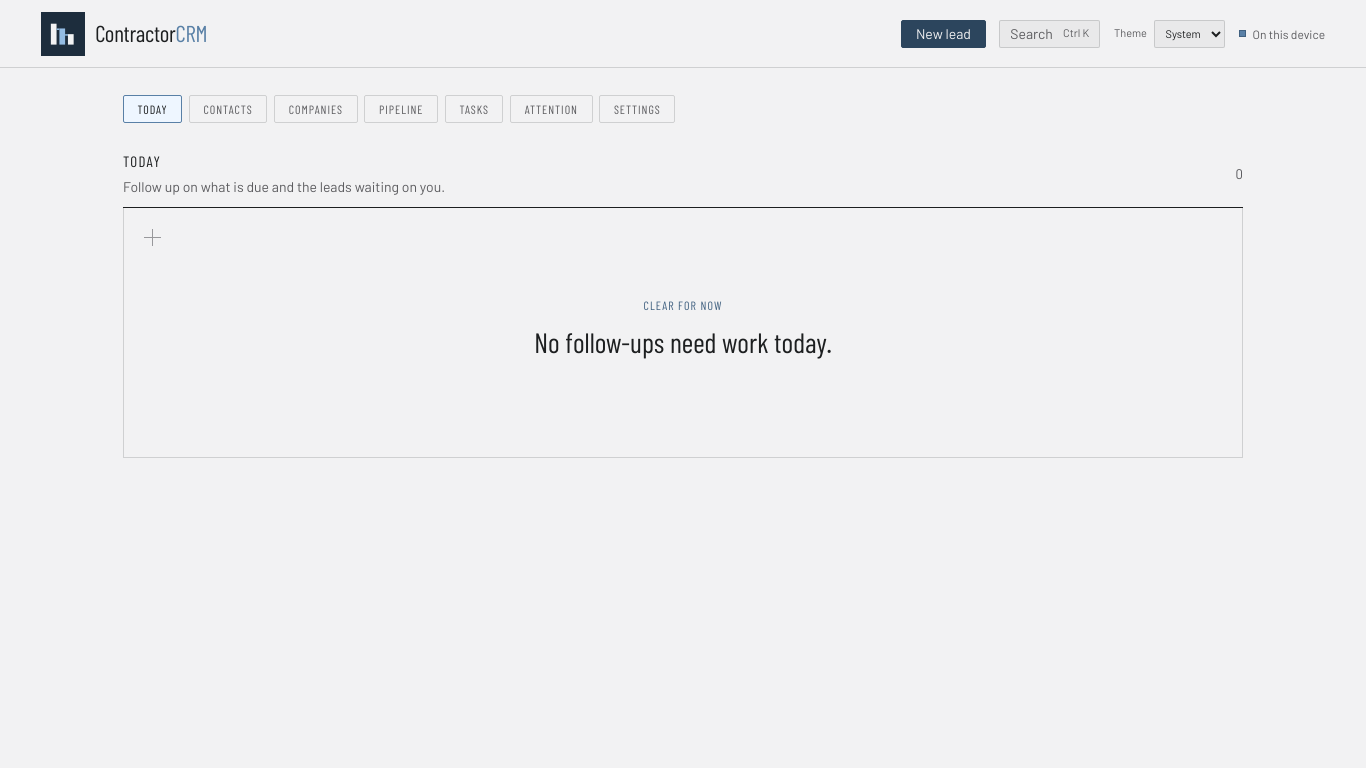
Scenario: activity timeline › renders entries newest-first with kind, direction, and summary
Click the button "Contacts" at (228, 109), box [189,95,267,123]
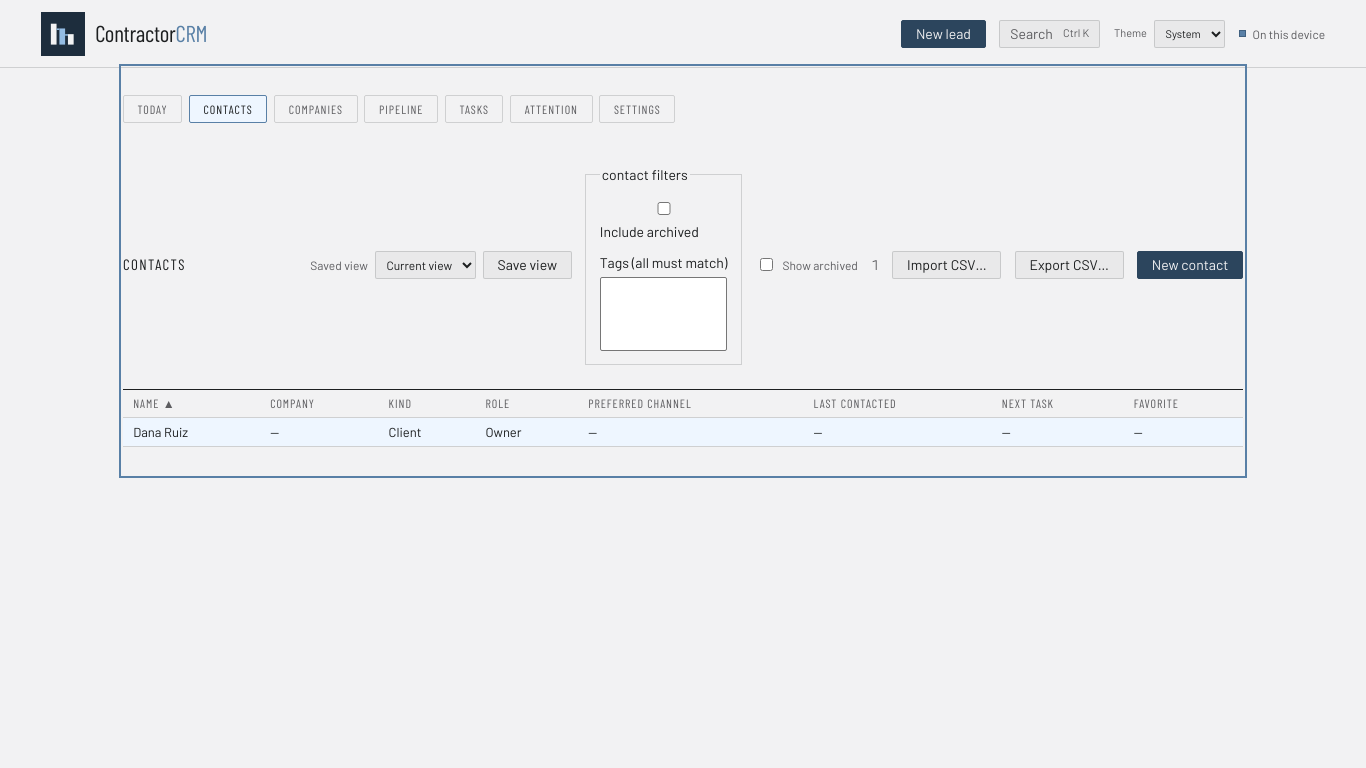
Click the text "Dana Ruiz" at (161, 432), box [133,424,188,440]
(page scrolled)
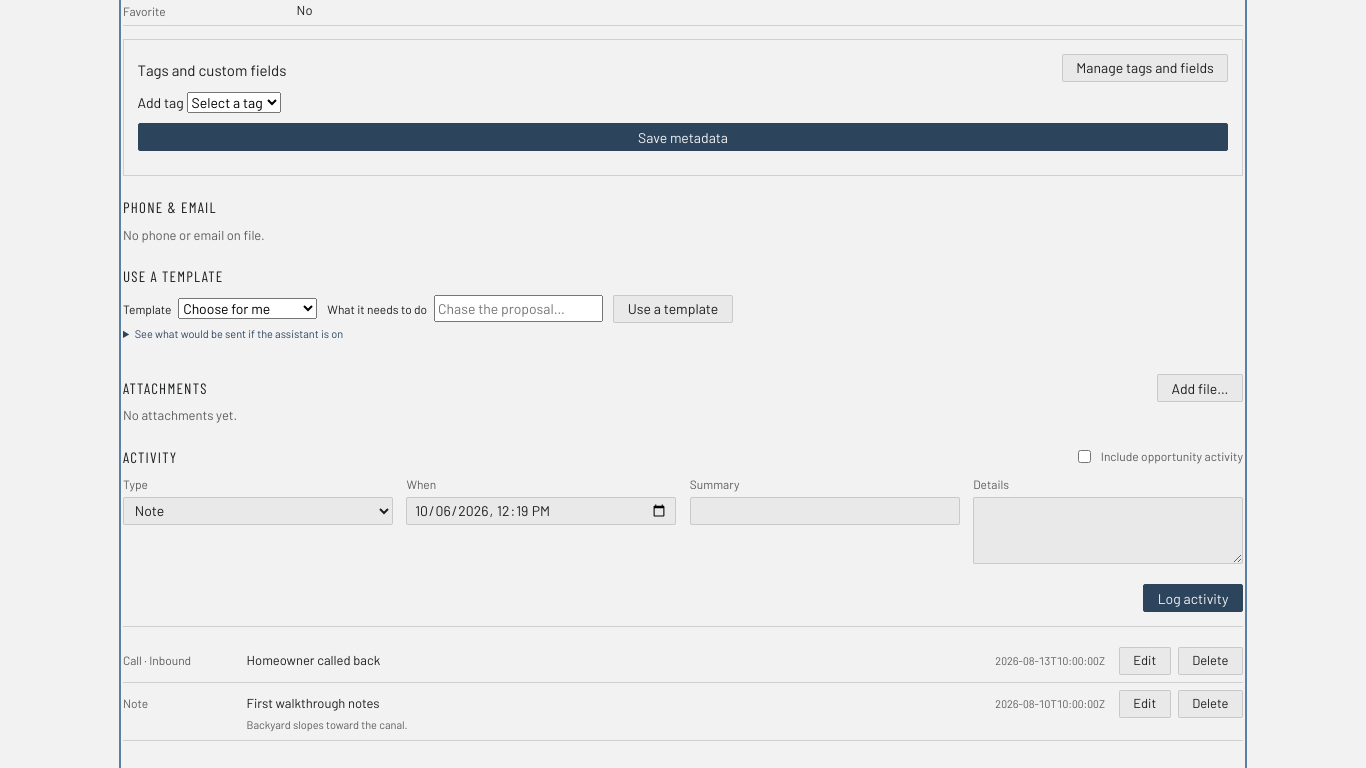
Expected: the number of list items is 2, [123,640,1243,683]; [123,683,1243,741]
Expected: the text "Call · Inbound" is shown, [123,653,191,667]
Expected: the text "Homeowner called back" is shown, [247,652,380,668]
